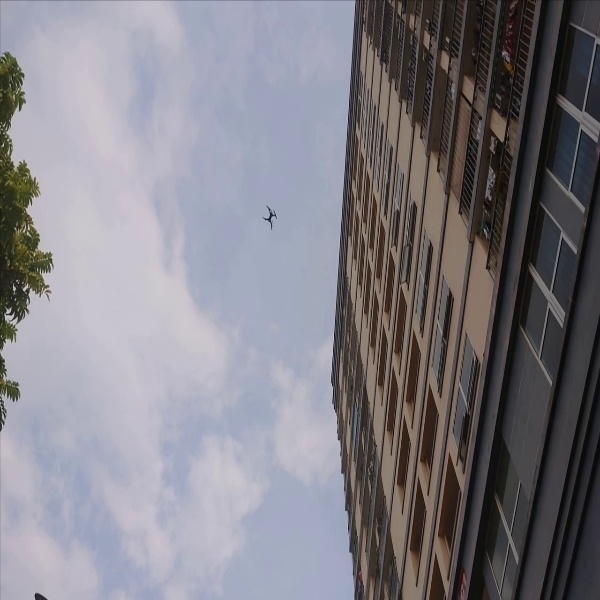drone: (257, 202, 283, 231)
